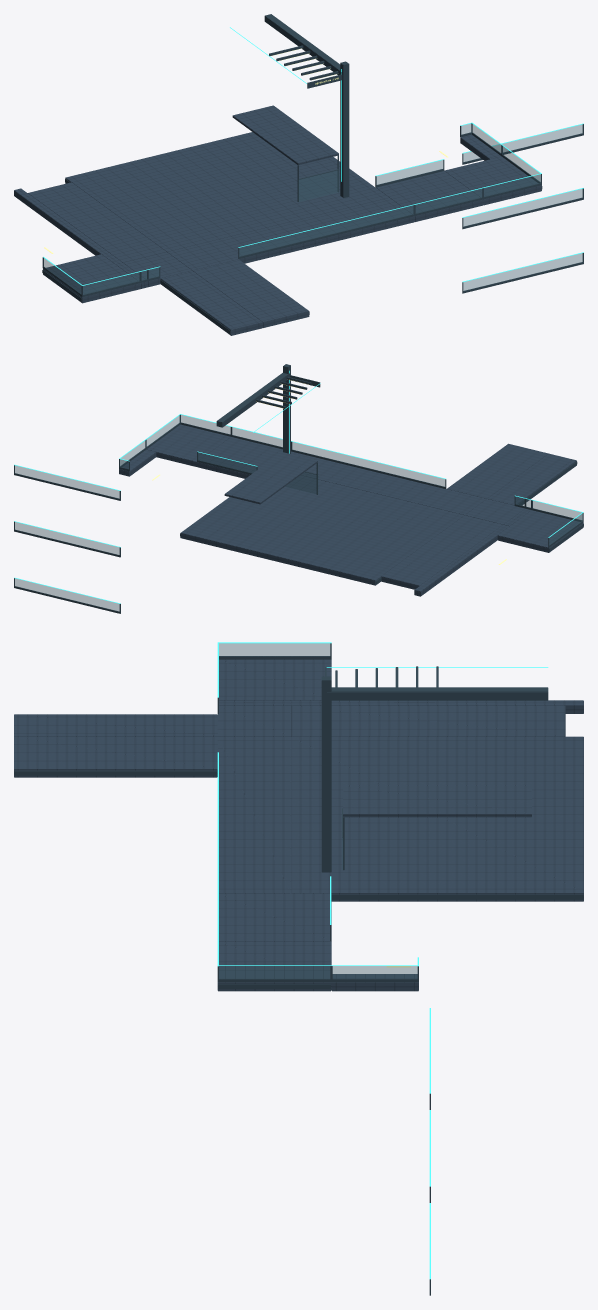
Rendered from v02-detailed-04-07.glb.
The picture shows the model from 3 angles, top to bottom: view 1: azimuth 30°, elevation 25°; view 2: azimuth 150°, elevation 25°; view 3: azimuth 270°, elevation 25°; orthographic projection. The views are drawn at different scales.
Parts seen in each view (by area): view 1: v02-detailed-04-07; view 2: v02-detailed-04-07; view 3: v02-detailed-04-07.
Part boxes in pixels (left/top/right/bottom): v02-detailed-04-07: left=14, top=14, right=583, bottom=335; v02-detailed-04-07: left=14, top=364, right=583, bottom=613; v02-detailed-04-07: left=14, top=642, right=583, bottom=1295.
Bounding box in the file's own units: 58.85 × 28.71 × 35.
Materials: 5 (1 with a texture image).
